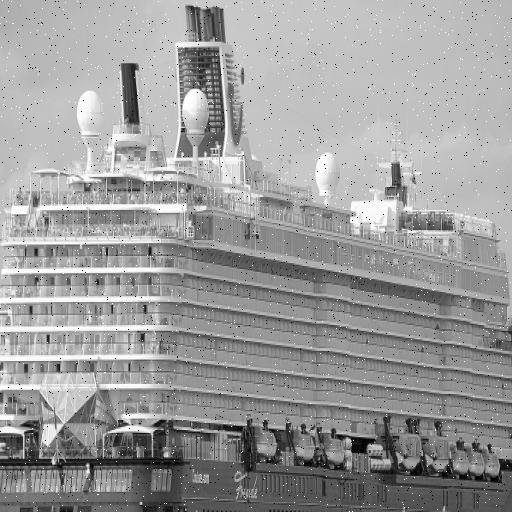cruises: (1, 4, 512, 512)
